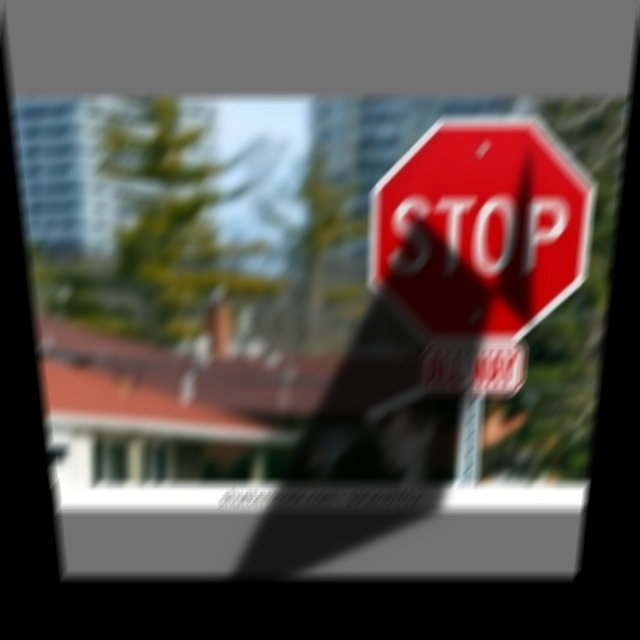Stop: (370, 117, 602, 342)
